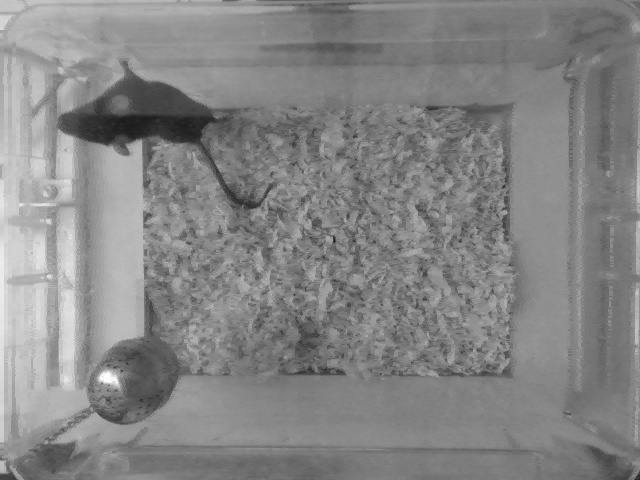mice: (45, 50, 274, 209)
